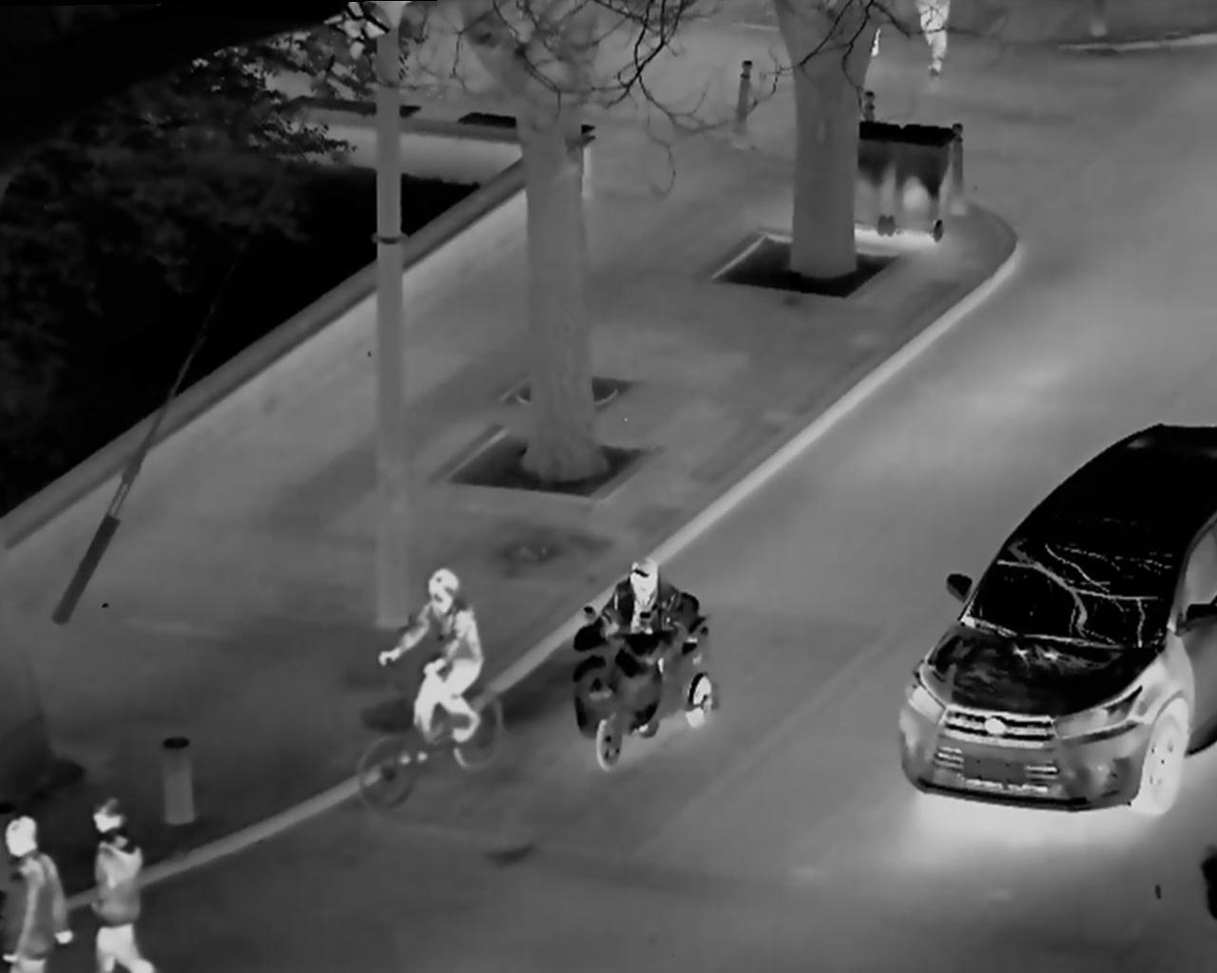person: (377, 554, 488, 738), (586, 546, 690, 714), (77, 791, 165, 970)
